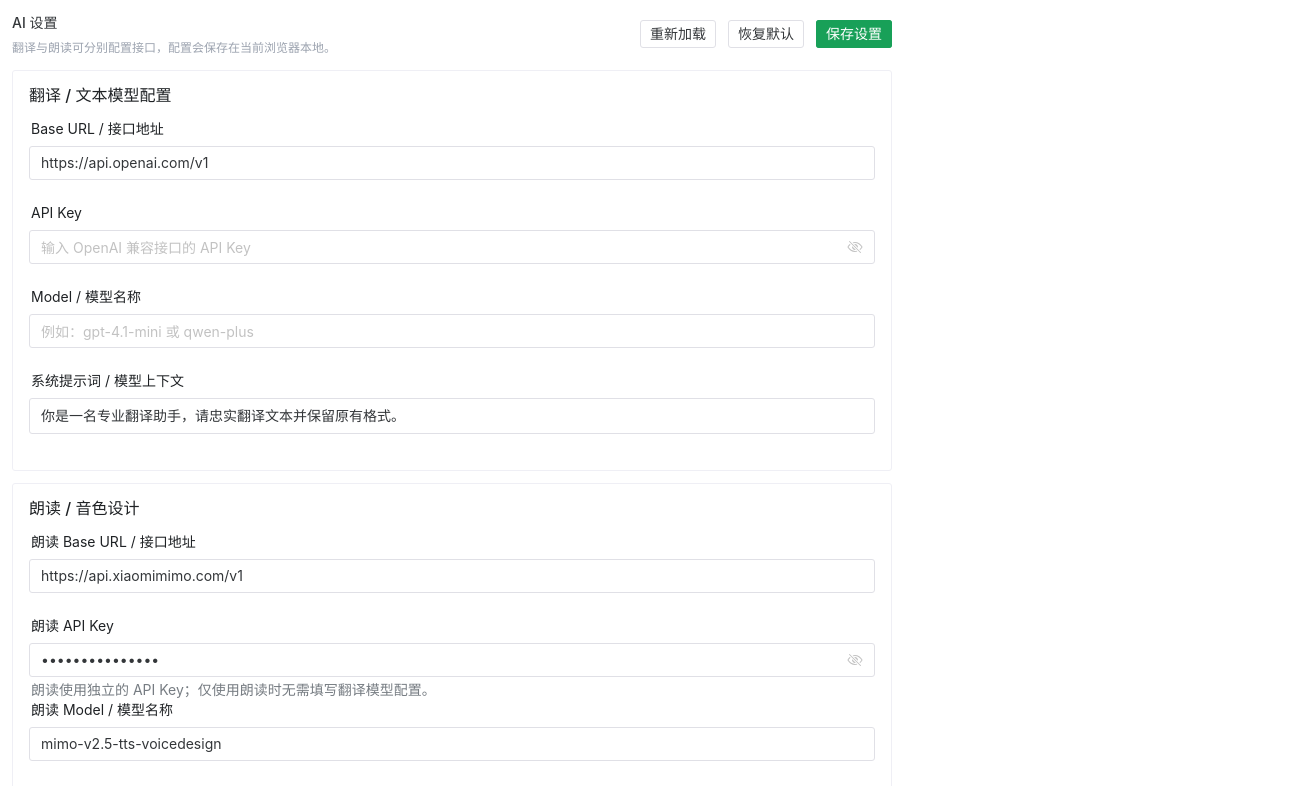
Test: AI settings read aloud configuration › saves read aloud credentials when translation credentials are empty
Click the button "保存设置". click: point(854, 34)
box: left=816, top=20, right=892, bottom=48
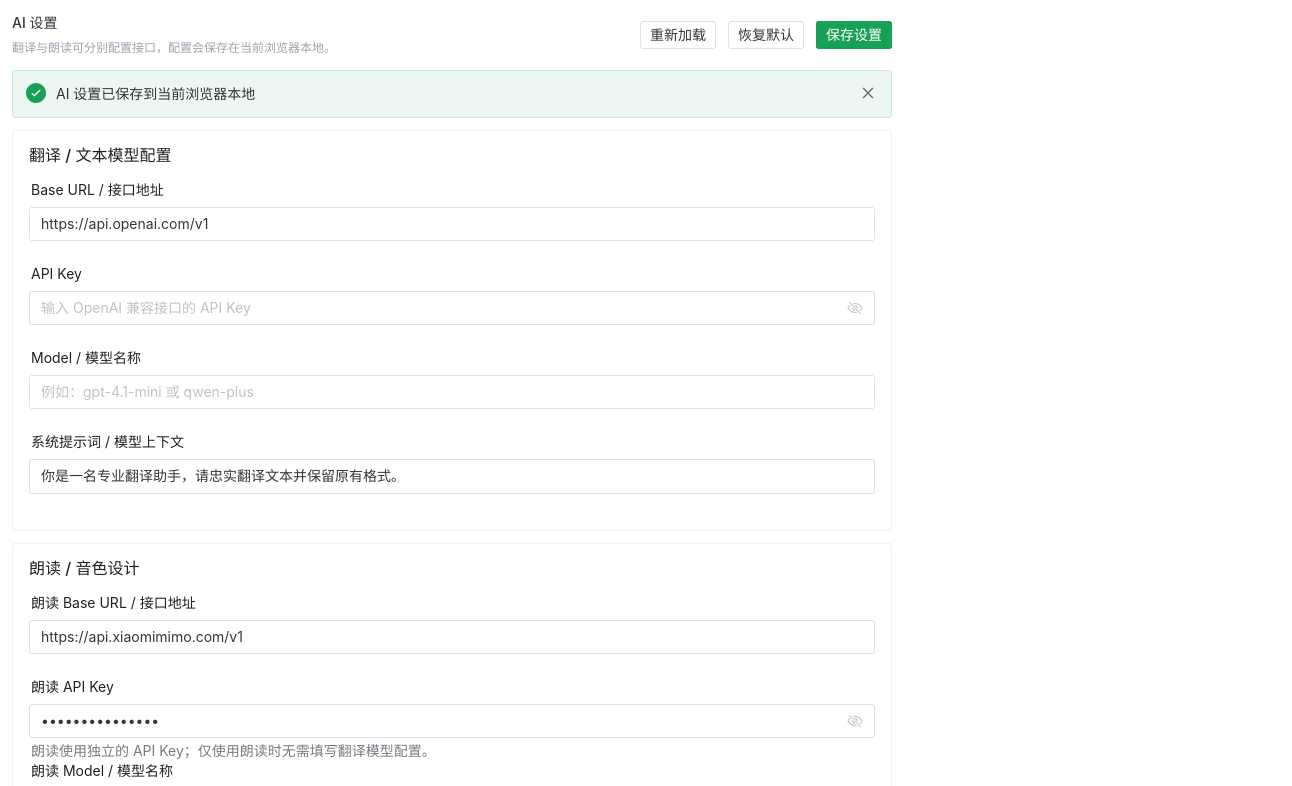
Check: the text "AI 设置已保存到当前浏览器本地" is shown, box left=56, top=85, right=255, bottom=102
